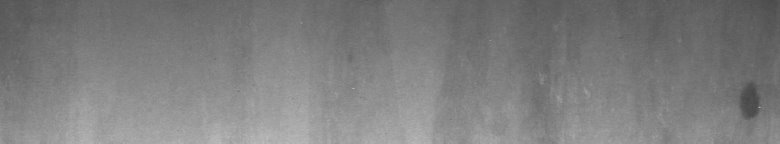fi: (736, 76, 764, 124)
